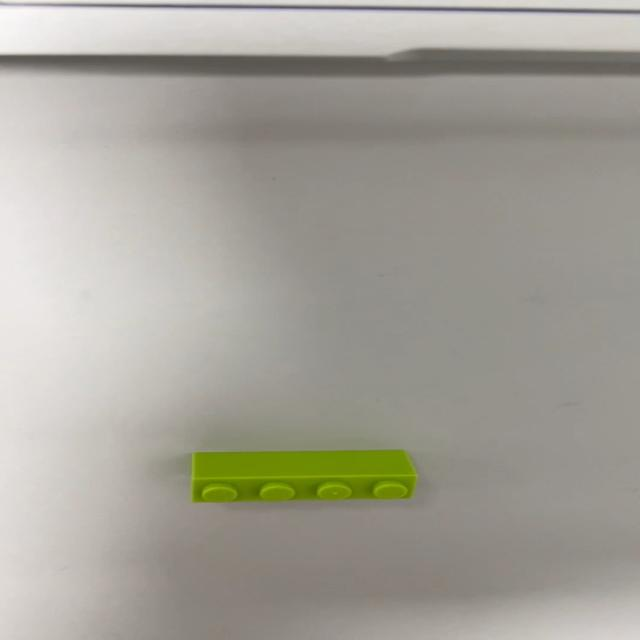C4x1x1: (188, 449, 418, 503)
